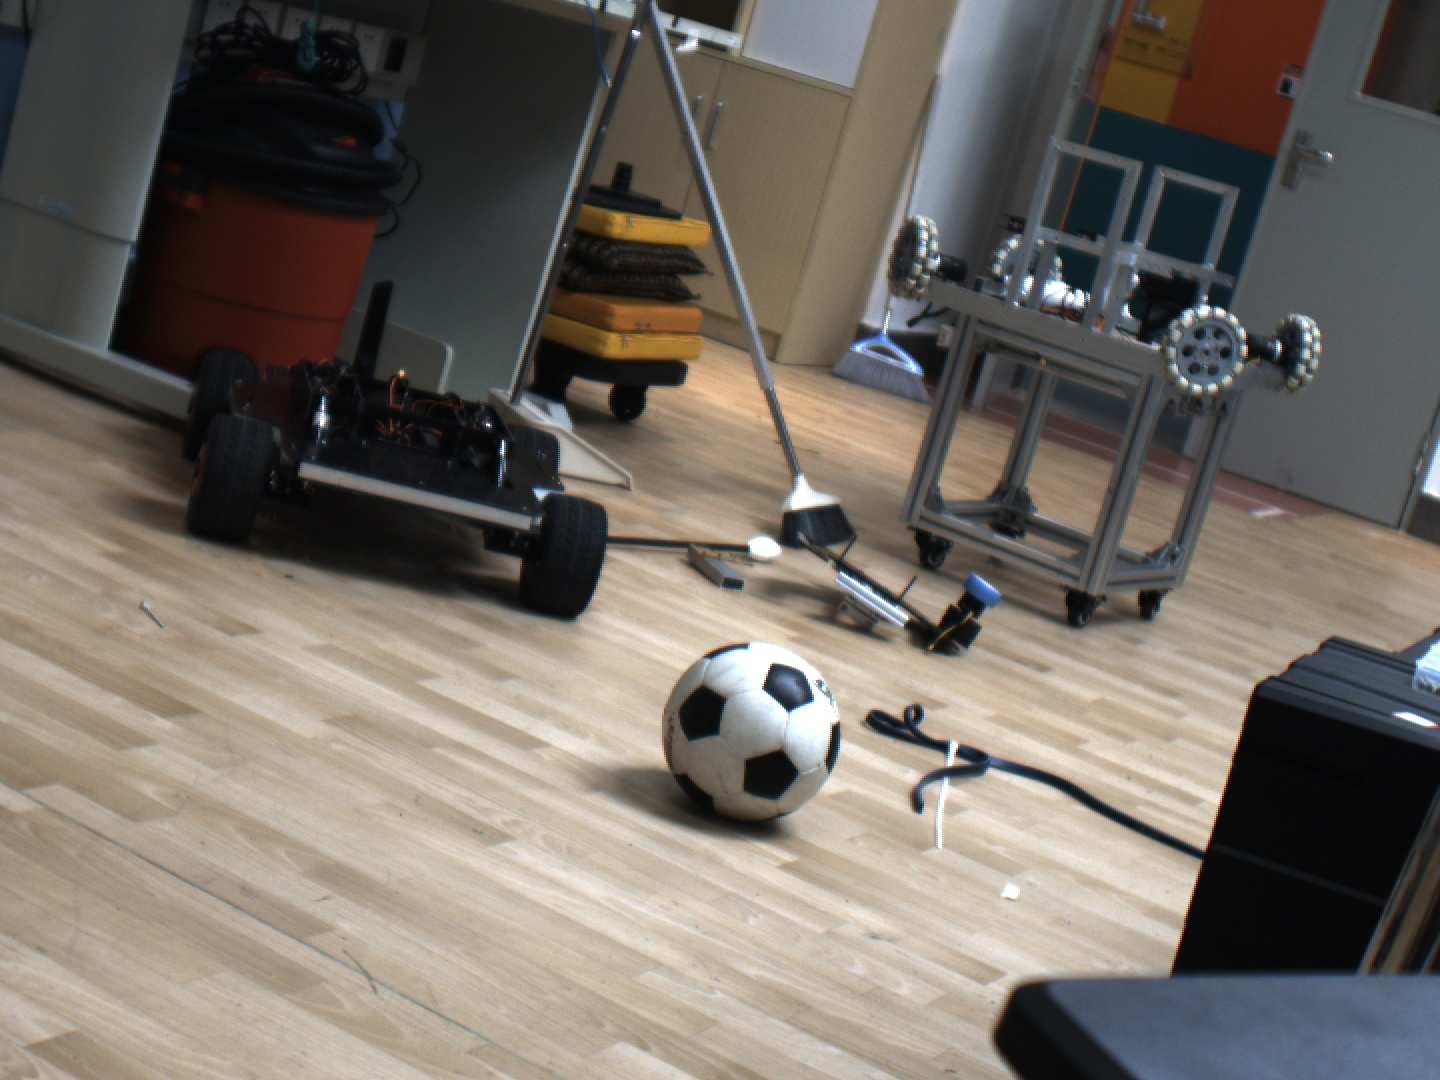ball: (655, 639, 857, 834)
